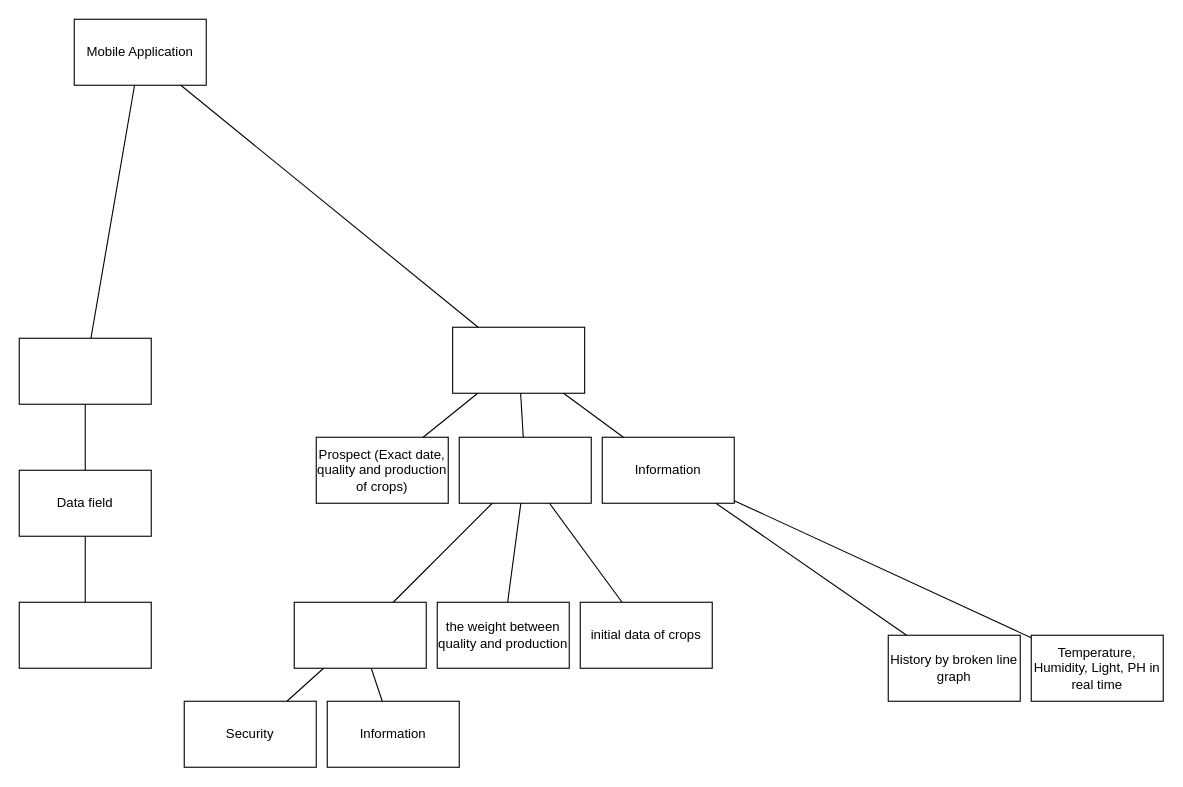
The diagram is 1183 pixels wide and 787 high, and some of its shapes have lost their labels. Here are the shapes that lost their labels. From the top down, the box of each, then its label:
(18, 337, 151, 404): Notification
(452, 326, 585, 393): Home
(458, 436, 591, 503): Settings
(18, 601, 151, 668): Abnormal of temperatur, humidity, light, PH, nutrition
(293, 601, 426, 668): My Account
